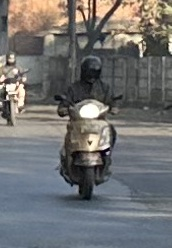BikeWithRider: (50, 51, 126, 202), (0, 47, 32, 129)
Helmet: (75, 52, 106, 83)
